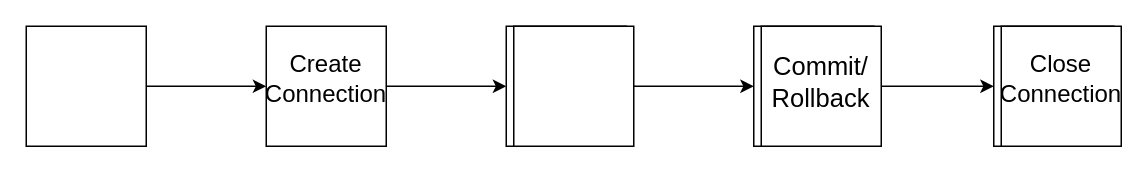
This 1148x173 diagram has some shape labels left out. Here are the shapes that lost their labels. From the top down, the centre of each, then its label:
At (85,85): "Mount Driver".
At (573,85): "Execute SQL".
